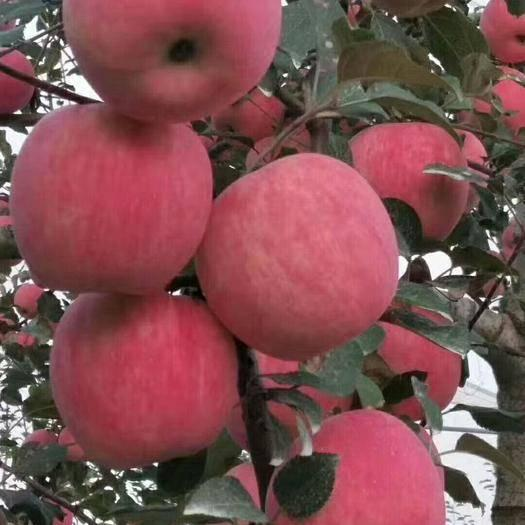apple: (196, 151, 402, 363), (9, 101, 213, 292), (48, 294, 245, 470), (62, 2, 283, 123), (264, 409, 447, 522)
